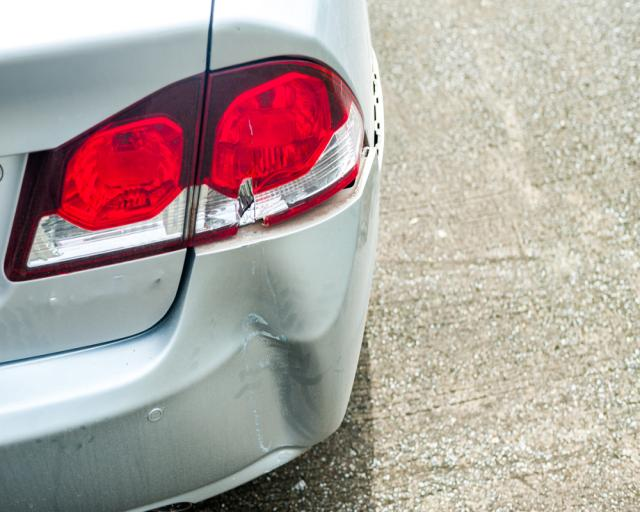dent: (206, 248, 340, 450)
lamp broken: (188, 54, 366, 247)
